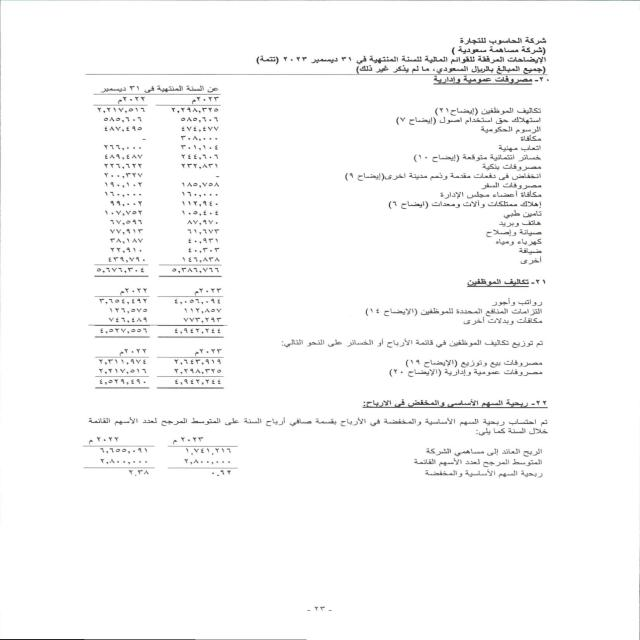notes: (419, 54, 556, 66)
table: (53, 82, 241, 414), (61, 429, 248, 489)
